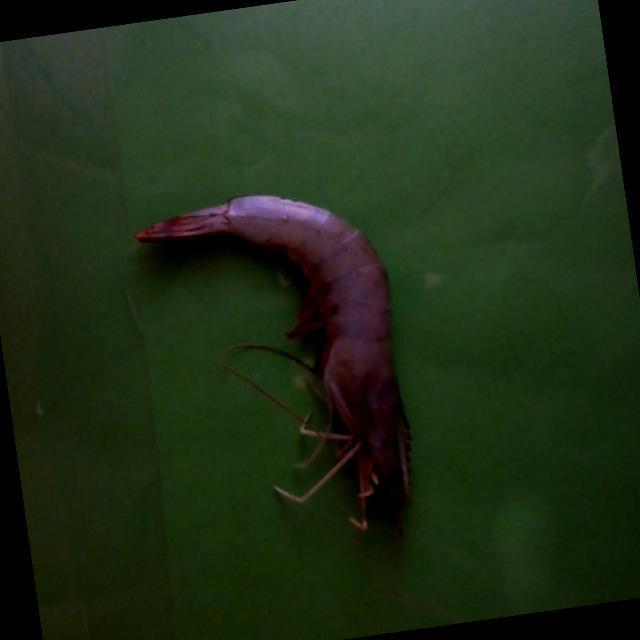shrimp: (136, 195, 409, 516)
